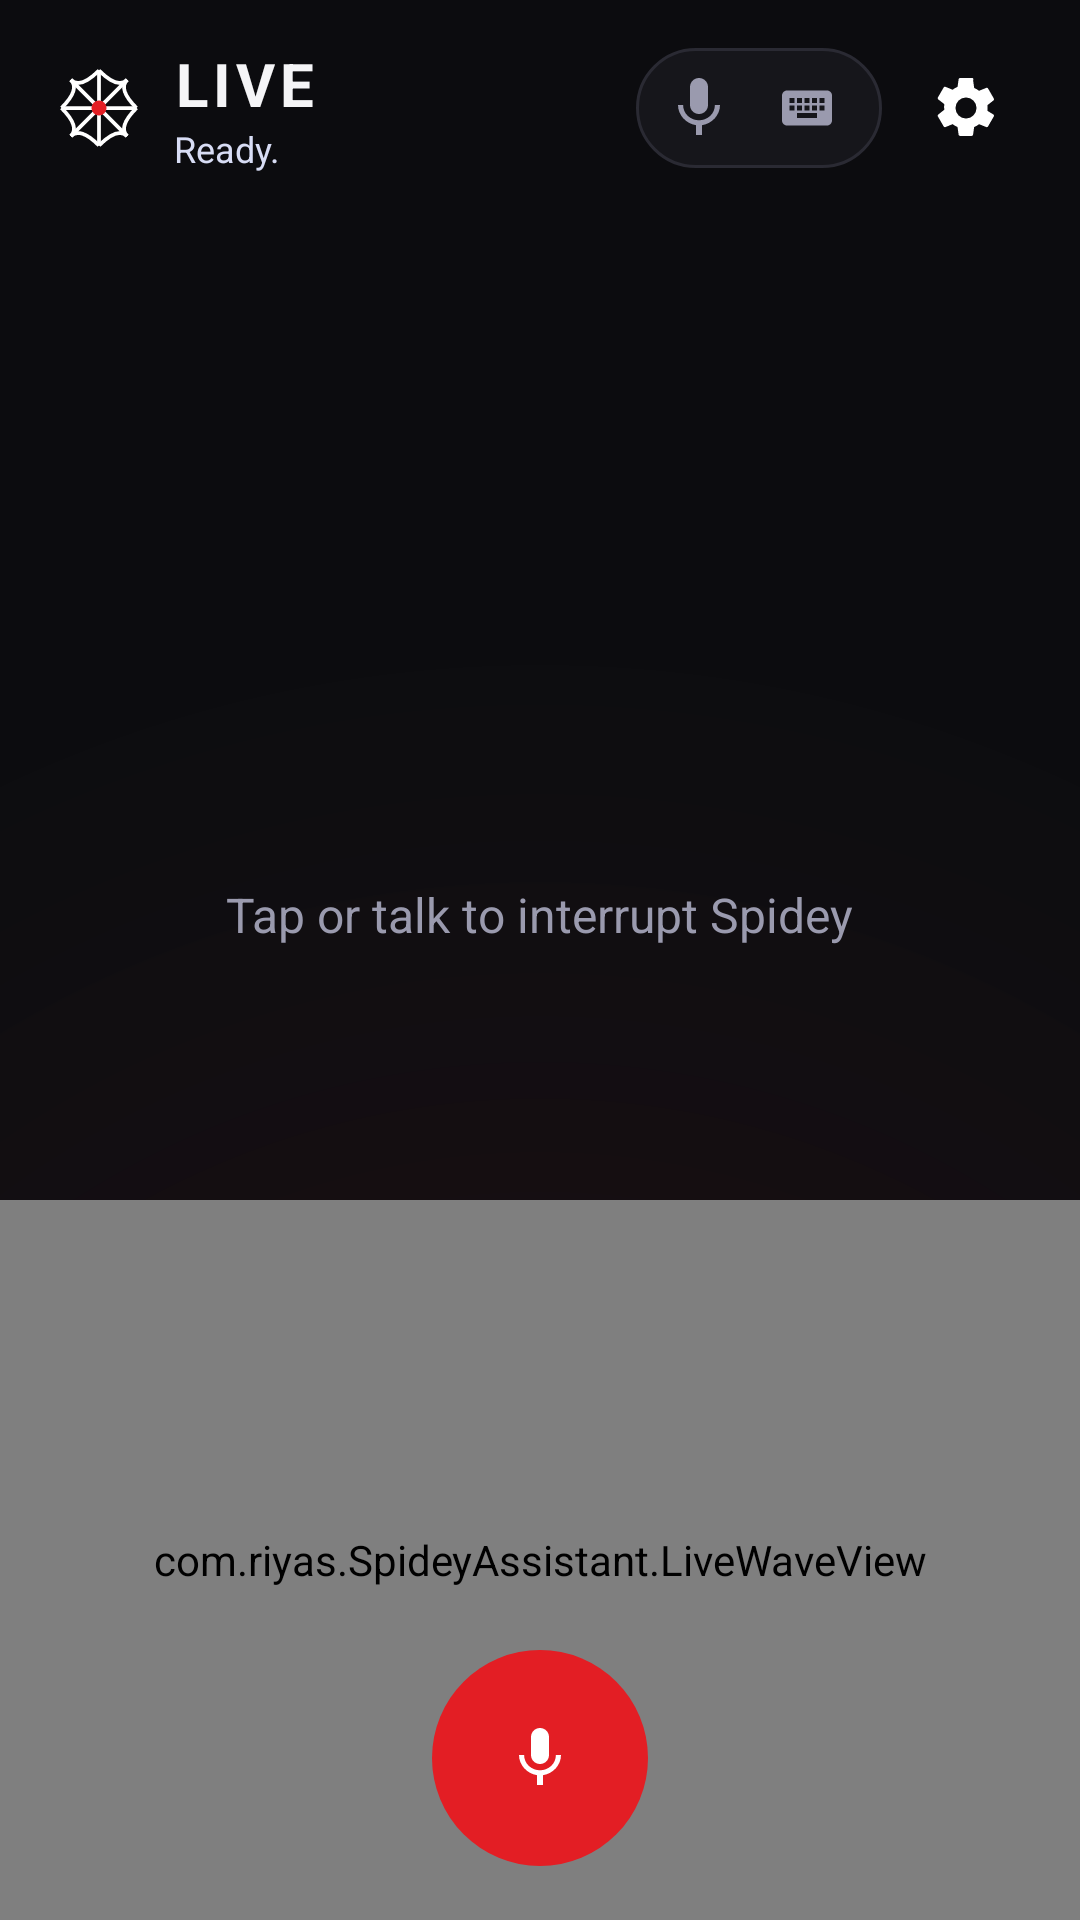

Icons on this 1080 x 1920 Android screen, each with its box as (x1, y1, x2, y2):
AI provider settings: (937, 78, 994, 136)
spidey mark: (60, 69, 138, 147)
Tap to speak: (432, 1650, 648, 1866)
Text mode: (782, 90, 832, 126)
Voice mode: (678, 78, 720, 135)
